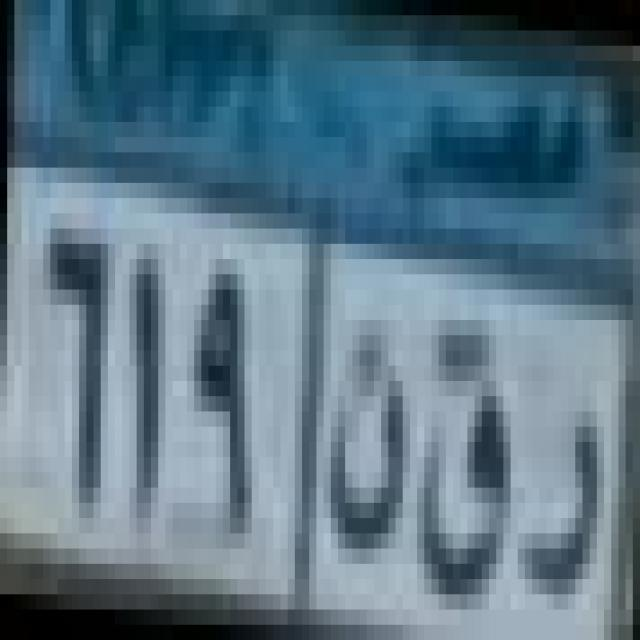1: (124, 230, 167, 544)
6: (44, 197, 114, 532)
9: (184, 260, 260, 537)
Noon: (319, 307, 415, 568)
R: (518, 399, 604, 612)
Taa: (422, 316, 514, 596)
